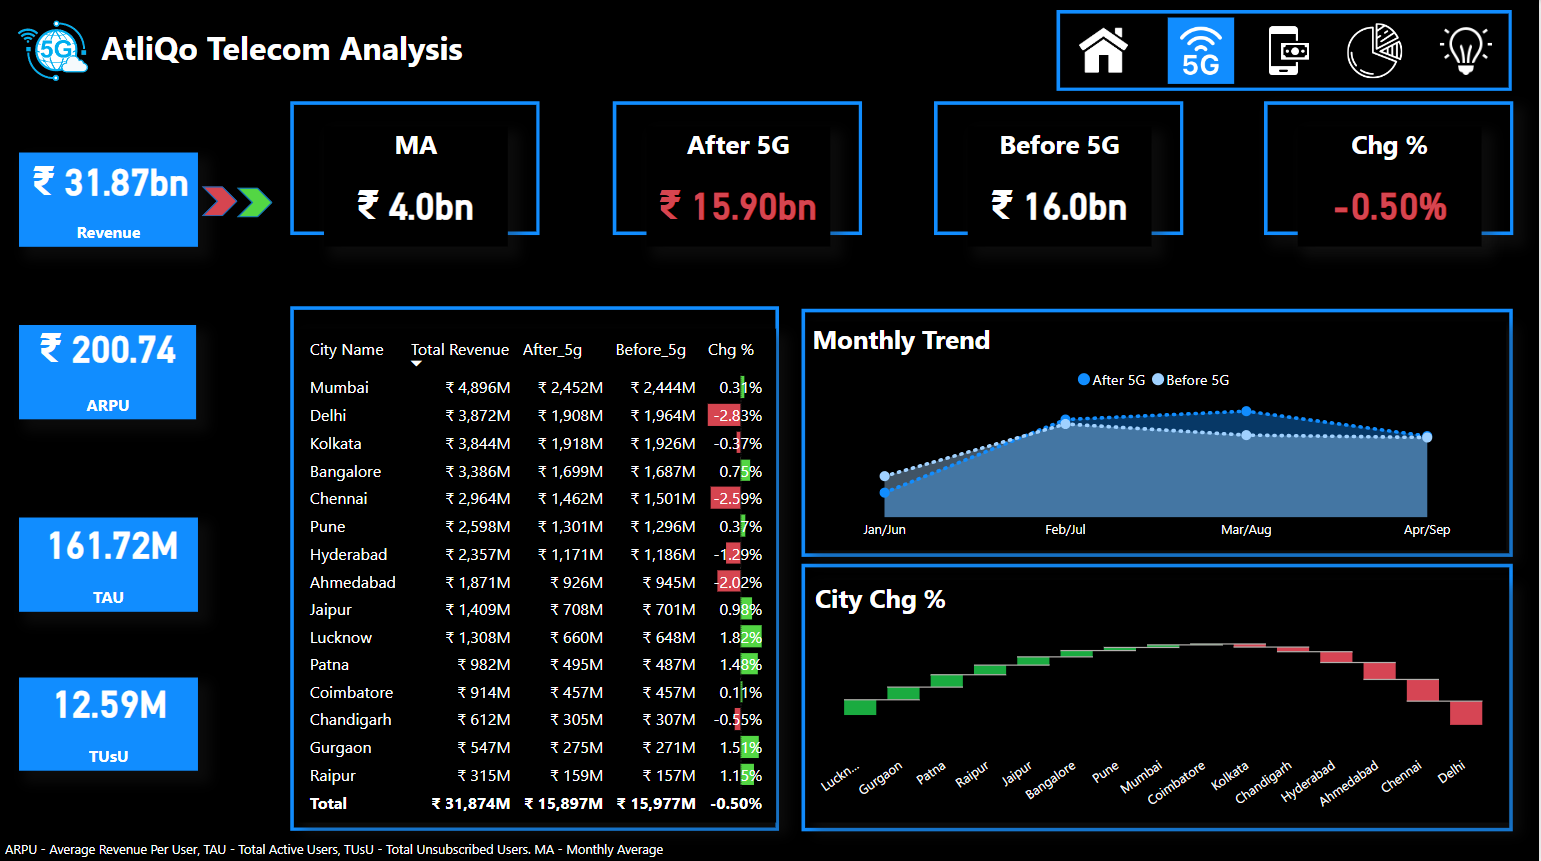

This screenshot's page, from the dashboard's own definition file:
{"tool":"powerbi","page":{"name":"KPI","canvas":[1280,720],"ordinal":1},"visuals":[{"type":"group","id":"g1","title":"Group 5","box":[17,126.2,149.2,513.8],"z":0},{"type":"actionButton","box":[17.5,126.2,148.8,78.8],"z":0,"group":"g1"},{"type":"shape","box":[197.1,155.7,30,25],"z":0,"group":"g2"},{"type":"shape","box":[168,155,30,25],"z":1000,"group":"g2"},{"type":"shape","box":[667.5,256.2,591.2,206.2],"z":1000},{"type":"actionButton","box":[17,270,147.5,78.8],"z":1000,"group":"g1"},{"type":"textbox","box":[80,16.2,323.8,67.5],"z":2000},{"type":"areaChart","title":"Monthly Trend","fields":{"Category":["Month_comparison.Month_name"],"Y":["Key_Measures.Revenue_after_5g"],"Y2":["Key_Measures.Revenue_before_5g"]},"box":[671.3,267.5,581.2,190],"z":2000,"group":"g2"},{"type":"actionButton","box":[17,562.4,148.8,77.5],"z":2000,"group":"g1"},{"type":"card","title":"Chg %","fields":{"Values":["Key_Measures.Revenue_chg %"]},"box":[1078.8,105,152.5,100],"z":3000,"group":"g2"},{"type":"card","fields":{"Values":["Key_Measures.ARPU"]},"box":[16.3,267.4,147.8,43.5],"z":3000},{"type":"actionButton","box":[17,430,148.8,78.8],"z":3000,"group":"g1"},{"type":"card","title":"After 5G","fields":{"Values":["Key_Measures.Revenue_after_5g"]},"box":[537.5,105,152.5,100],"z":4000,"group":"g2"},{"type":"card","fields":{"Values":["Key_Measures.Total_revenue"]},"box":[18.8,126.2,148.8,45],"z":4000},{"type":"card","title":"Before 5G","fields":{"Values":["Key_Measures.Revenue_before_5g"]},"box":[805,105,152.5,100],"z":5000,"group":"g2"},{"type":"card","title":"MA","fields":{"Values":["Key_Measures.Average_monthly_revenue"]},"box":[270,105,152.5,100],"z":6000,"group":"g2"},{"type":"card","fields":{"Values":["Key_Measures.Total_Active_Users"]},"box":[20,430,148.8,42.5],"z":6000},{"type":"pivotTable","fields":{"Rows":["dim_cities.city_name"],"Values":["Key_Measures.Total_revenue","Key_Measures.Revenue_after_5g","Key_Measures.Revenue_before_5g","Key_Measures.Revenue_chg %"]},"box":[247.5,273.8,397.5,410],"z":7000,"group":"g2"},{"type":"card","fields":{"Values":["Key_Measures.Total_unsub_users"]},"box":[17.5,562.5,148.8,42.5],"z":7000},{"type":"shape","box":[242.5,83.8,207.5,111.2],"z":8000},{"type":"waterfallChart","title":"City Chg %","fields":{"Category":["dim_cities.city_name"],"Y":["Key_Measures.Revenue_chg %"]},"box":[672.5,482.5,581.2,201.2],"z":8000,"group":"g2"},{"type":"shape","box":[510,83.8,207.5,111.2],"z":9000},{"type":"shape","box":[777.5,83.8,207.5,111.2],"z":10000},{"type":"shape","box":[1051.2,83.8,207.5,111.2],"z":11000},{"type":"shape","box":[242.5,255,406.2,436.2],"z":12000},{"type":"shape","box":[667.5,468.8,591.2,222.5],"z":13000},{"type":"group","id":"g2","title":"Group 3","box":[168,105,1085.8,578.8],"z":16000},{"type":"textbox","box":[0,691.2,781.2,28.8],"z":18000},{"type":"image","box":[0,0,90,83.8],"z":19000},{"type":"shape","box":[879.2,8.8,378.8,67.5],"z":20000},{"type":"image","box":[890.4,15,55,55],"z":21000},{"type":"image","box":[971.7,15,55,55],"z":22000},{"type":"image","box":[1040.4,15,55,55],"z":23000},{"type":"image","box":[1115.4,15,55,55],"z":24000},{"type":"image","box":[1191.7,15,55,55],"z":25000}]}

Visuals, with their boxes in screenshot pixels (x1, y1, x2, y2), scaled from the page's 1280x720 canvas onto the 1541x861 screenshot:
"Group 5" group: bbox(20, 151, 200, 765)
actionButton: bbox(21, 151, 200, 245)
shape: bbox(237, 186, 273, 216)
shape: bbox(202, 185, 238, 215)
shape: bbox(804, 306, 1515, 553)
actionButton: bbox(20, 323, 198, 417)
textbox: bbox(96, 19, 486, 100)
"Monthly Trend" areaChart: bbox(808, 320, 1508, 547)
actionButton: bbox(20, 673, 200, 765)
"Chg %" card: bbox(1299, 126, 1482, 245)
card - Key_Measures.ARPU: bbox(20, 320, 198, 372)
actionButton: bbox(20, 514, 200, 608)
"After 5G" card: bbox(647, 126, 831, 245)
card - Key_Measures.Total_revenue: bbox(23, 151, 202, 205)
"Before 5G" card: bbox(969, 126, 1153, 245)
"MA" card: bbox(325, 126, 509, 245)
card - Key_Measures.Total_Active_Users: bbox(24, 514, 203, 565)
pivotTable - dim_cities.city_name x Key_Measures.Total_revenue: bbox(298, 327, 777, 818)
card - Key_Measures.Total_unsub_users: bbox(21, 673, 200, 723)
shape: bbox(292, 100, 542, 233)
"City Chg %" waterfallChart: bbox(810, 577, 1509, 818)
shape: bbox(614, 100, 864, 233)
shape: bbox(936, 100, 1186, 233)
shape: bbox(1266, 100, 1515, 233)
shape: bbox(292, 305, 781, 827)
shape: bbox(804, 561, 1515, 827)
"Group 3" group: bbox(202, 126, 1509, 818)
textbox: bbox(0, 827, 940, 860)
image: bbox(0, 0, 108, 100)
shape: bbox(1058, 11, 1515, 91)
image: bbox(1072, 18, 1138, 84)
image: bbox(1170, 18, 1236, 84)
image: bbox(1253, 18, 1319, 84)
image: bbox(1343, 18, 1409, 84)
image: bbox(1435, 18, 1501, 84)
